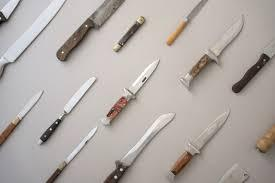Knife: (102, 111, 176, 182), (0, 0, 66, 79), (178, 13, 244, 89), (167, 107, 231, 181), (55, 0, 125, 61), (38, 76, 96, 144)
